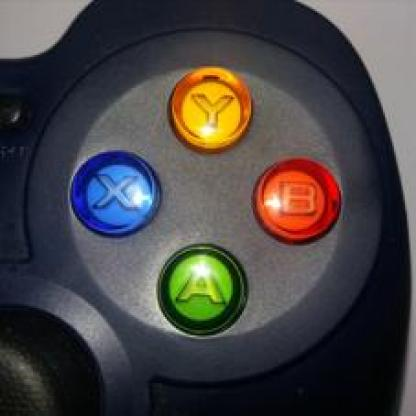gamepad: (7, 6, 412, 394)
